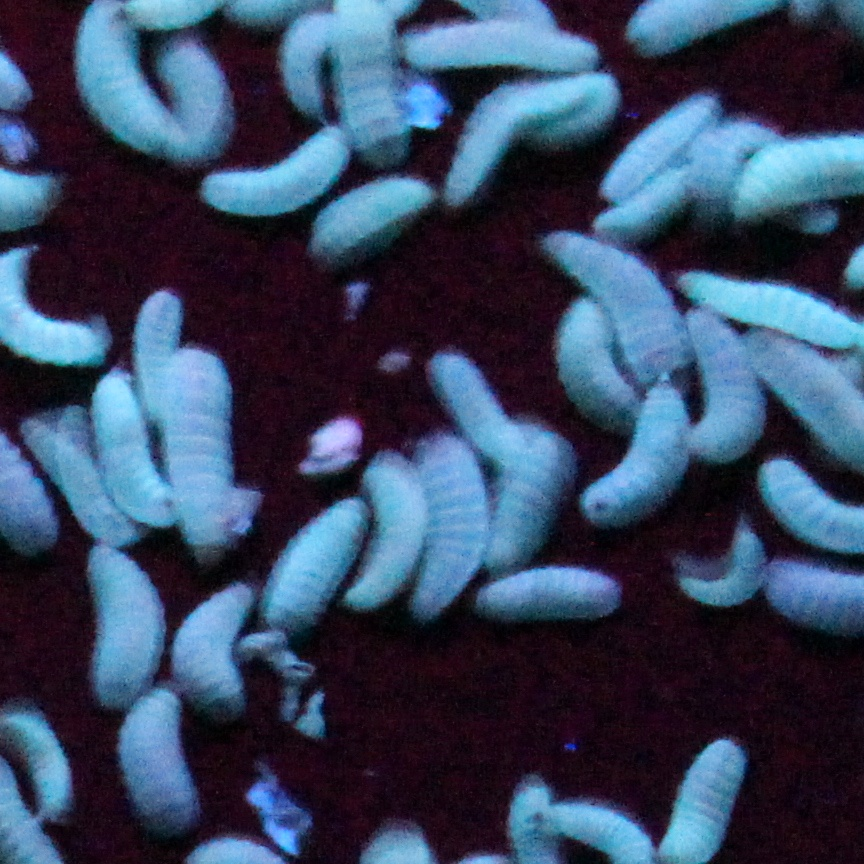larve: (544, 228, 682, 381), (453, 69, 603, 201), (85, 1, 194, 169), (12, 413, 146, 549), (566, 385, 691, 515), (164, 340, 232, 558), (80, 540, 166, 710), (337, 453, 430, 594), (414, 444, 489, 610), (687, 315, 766, 469), (598, 101, 716, 199), (560, 290, 641, 431), (121, 678, 198, 824), (437, 349, 532, 467), (94, 378, 175, 515), (207, 135, 344, 215), (400, 15, 607, 67), (266, 506, 357, 624), (316, 172, 425, 267), (178, 578, 257, 703), (478, 560, 621, 624), (3, 708, 80, 826), (482, 438, 557, 556), (689, 108, 785, 197), (155, 40, 230, 144), (678, 524, 769, 608), (603, 165, 698, 235), (135, 283, 189, 403), (280, 10, 332, 117)
